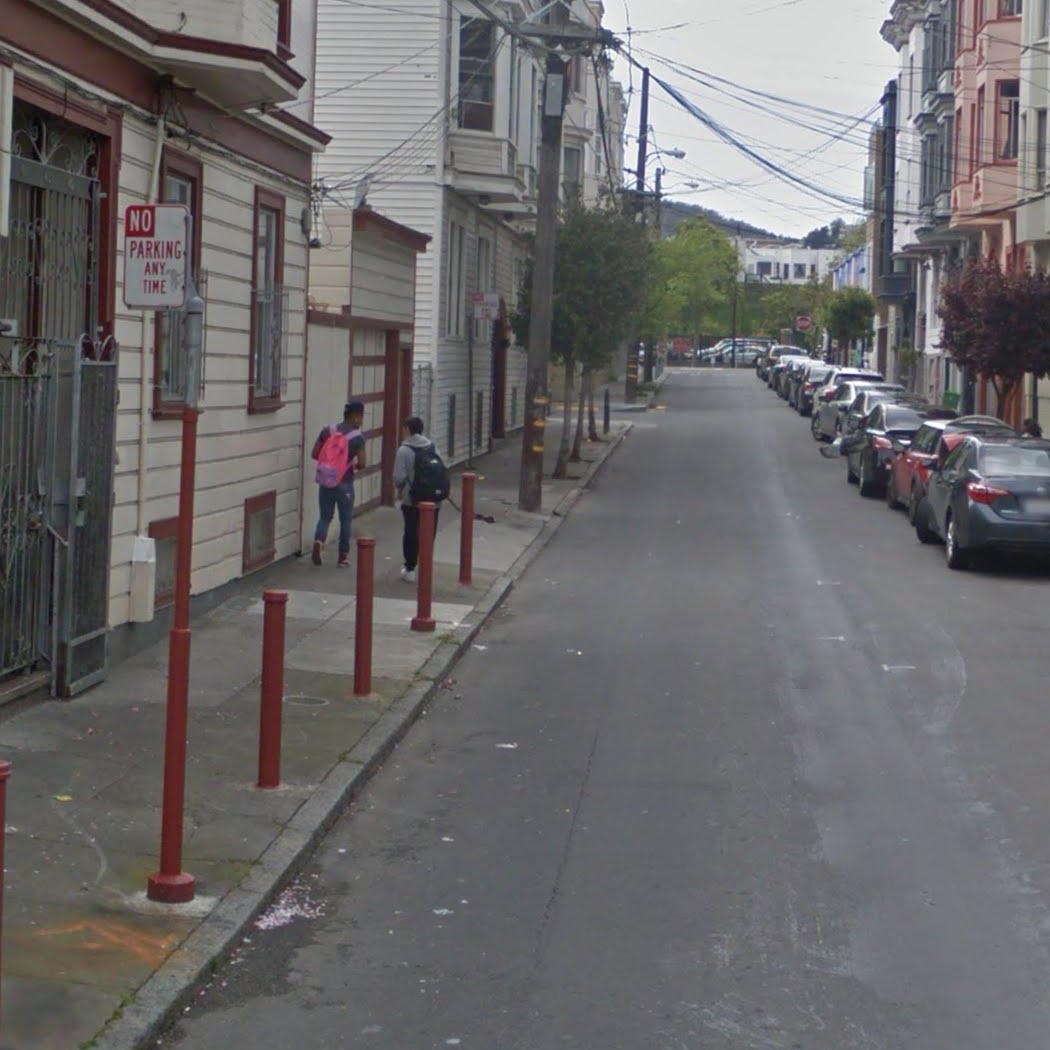No Parking Anytime: (121, 202, 190, 311)
